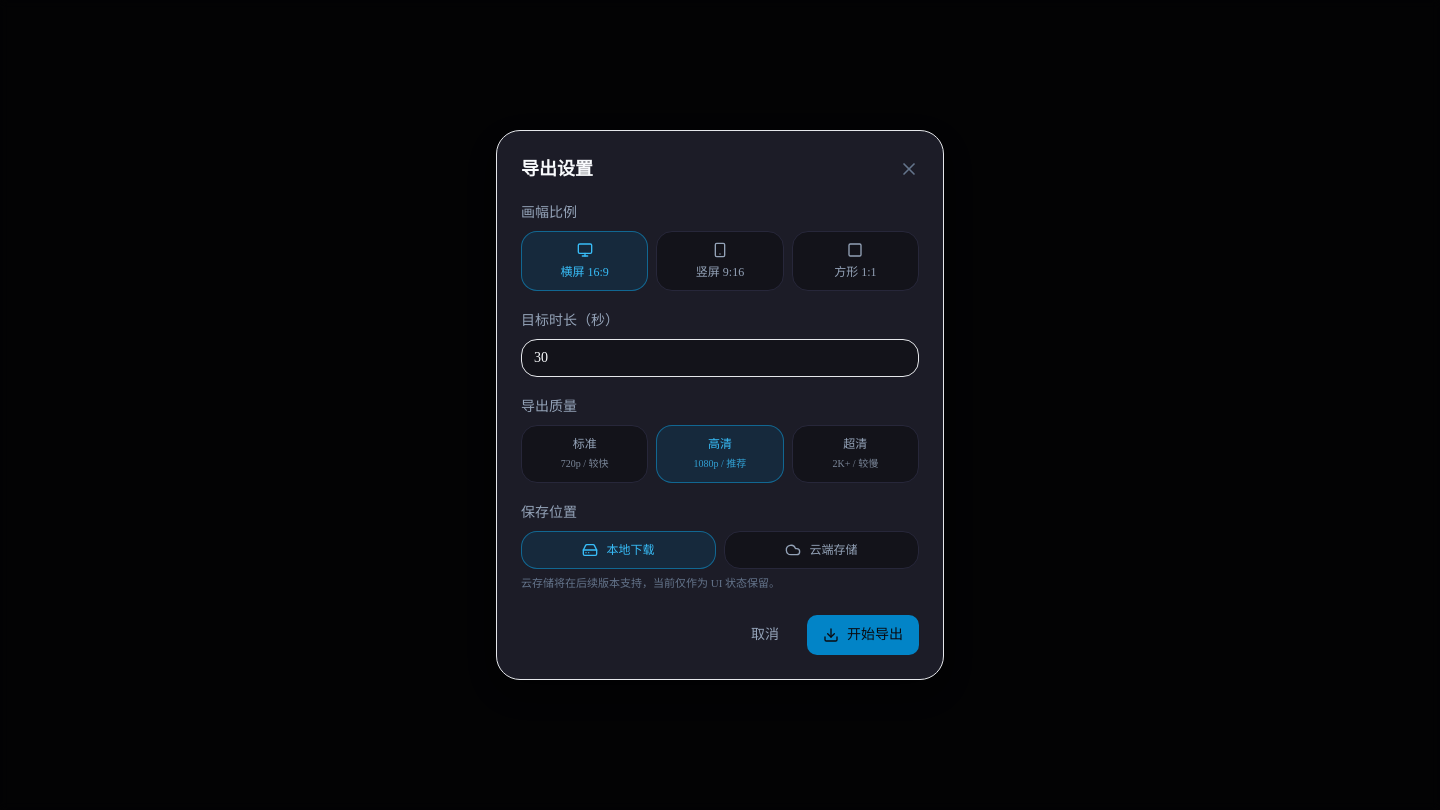
Test case: ExportSettings › shows credits error for 402 response
This screenshot has width=1440, height=810.
What coordinates should you click on to do the following:
click the button "开始导出"
I would click on:
 (863, 635)
Its box is [807,615,919,655].
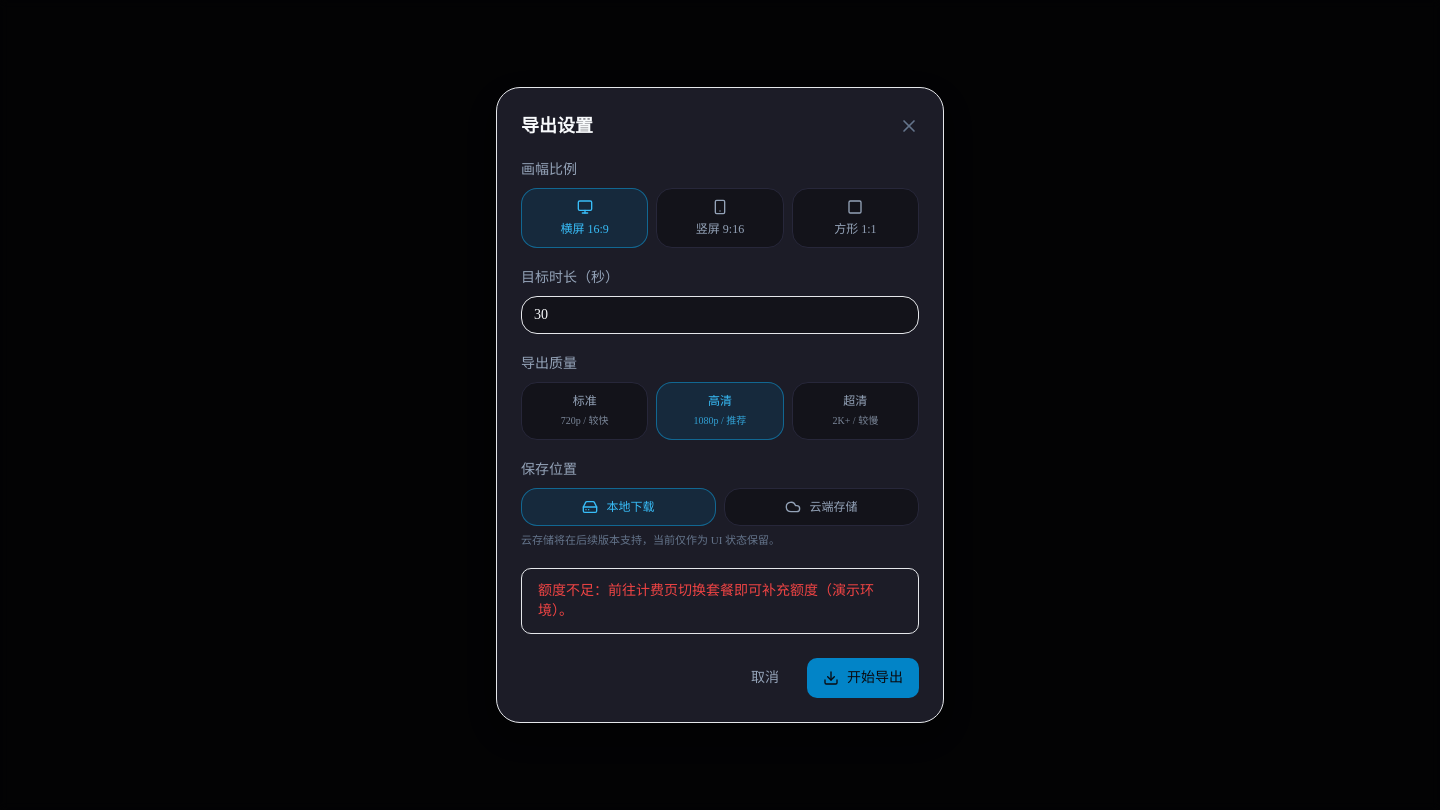
Expected: the text with test id "export-error" reads "额度不足：前往计费页切换套餐即可补充额度（演示环境）。", [538,583,874,618]
